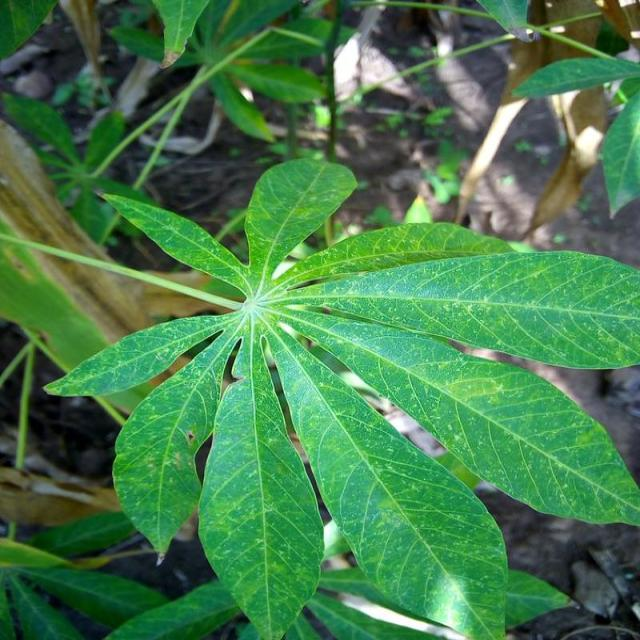cassava leaf: (40, 155, 638, 638)
